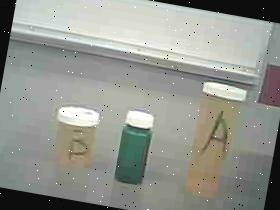Bottle A: (178, 74, 252, 206)
Bottle B: (47, 100, 108, 174)
Bottle C: (109, 103, 165, 191)
